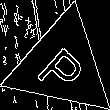P_NE: (32, 34, 92, 96)
